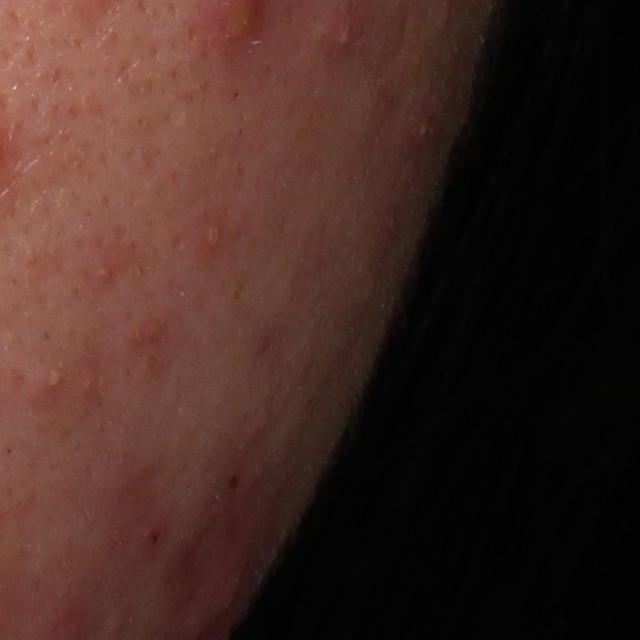pustule: (36, 359, 69, 393)
